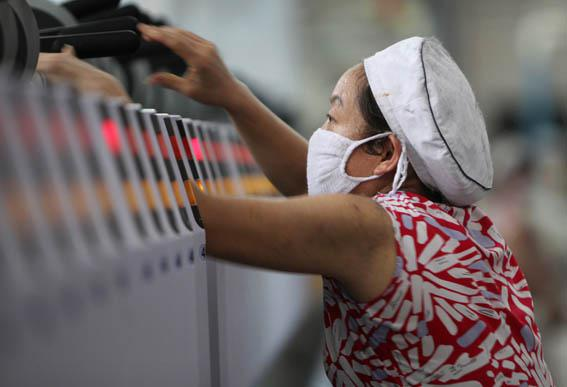OK: (303, 103, 400, 199)
